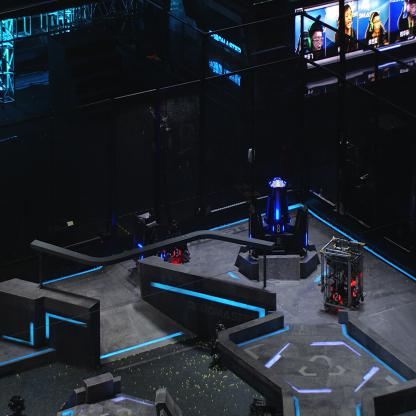car: (320, 235, 368, 312), (133, 212, 170, 268), (162, 220, 189, 263), (0, 394, 28, 416)
